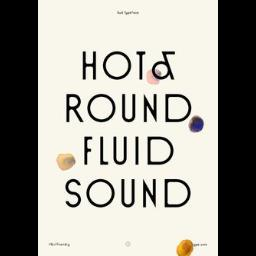h: (80, 48, 98, 86)
o: (101, 48, 137, 84), (86, 94, 120, 128), (62, 88, 88, 130)
